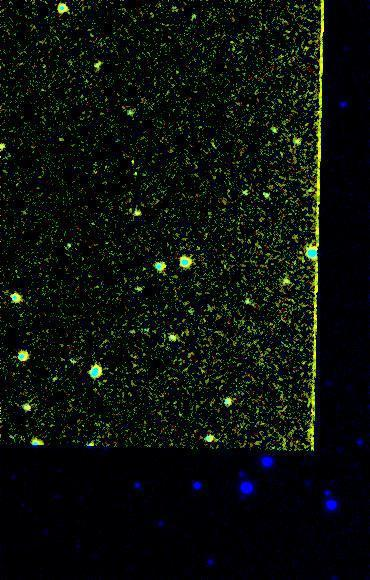star: (116, 151, 146, 181)
